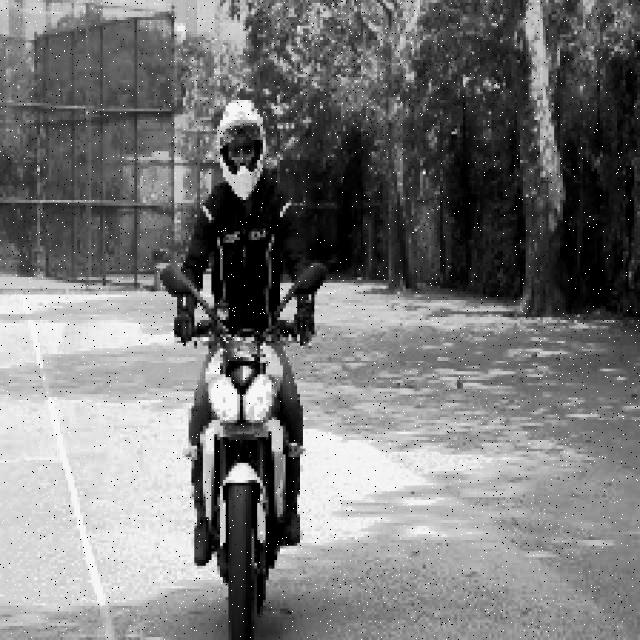Bike: (177, 296, 317, 620)
